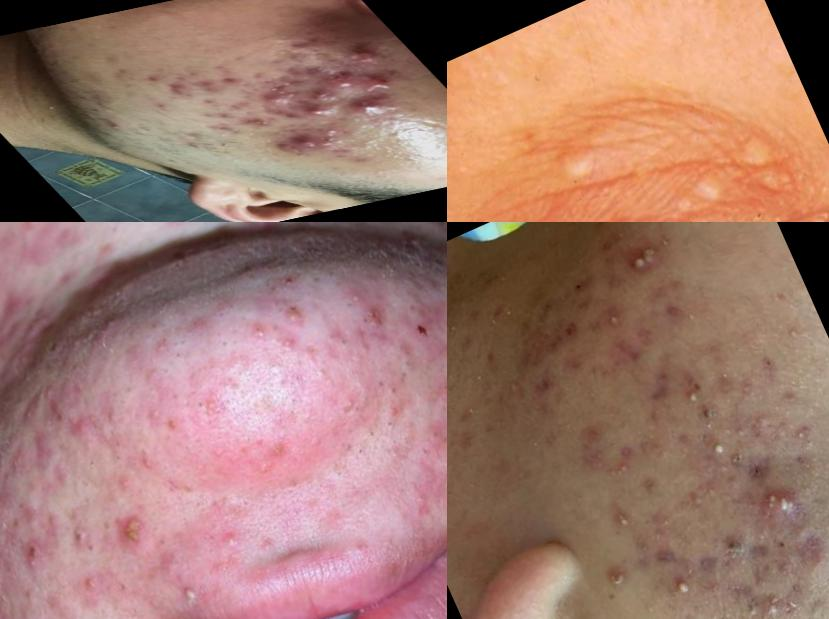acne_scars: (147, 79, 195, 100)
blackhead: (311, 318, 364, 366), (711, 522, 765, 568), (249, 348, 298, 391), (597, 557, 636, 598), (389, 353, 426, 389), (362, 368, 399, 403), (378, 377, 412, 407), (347, 439, 373, 464), (214, 333, 240, 358), (362, 419, 386, 445), (382, 413, 404, 435)
cystic: (78, 447, 113, 478)
keloid: (1, 426, 50, 511), (1, 275, 49, 359), (1, 349, 35, 415)
papular: (236, 424, 307, 490), (179, 378, 240, 435), (82, 303, 144, 354), (59, 403, 110, 450), (409, 417, 448, 474), (63, 514, 110, 556), (359, 301, 403, 345), (336, 279, 377, 321), (94, 398, 134, 439), (316, 67, 372, 95), (135, 397, 175, 434), (146, 326, 184, 364), (128, 444, 166, 480), (241, 89, 299, 111), (347, 44, 398, 68), (283, 129, 324, 153), (355, 99, 401, 118), (300, 104, 346, 123), (368, 72, 408, 92), (431, 373, 448, 410), (314, 87, 343, 103)
purulent: (156, 554, 215, 619), (107, 505, 162, 560), (70, 563, 114, 603), (275, 299, 316, 337), (214, 518, 255, 555), (243, 314, 284, 351), (674, 375, 710, 417), (756, 584, 794, 619), (666, 566, 698, 602), (706, 433, 739, 467), (610, 506, 640, 536), (243, 223, 281, 239)
sebo-crystan-conglo: (748, 468, 811, 536), (618, 231, 678, 282)
syringoma: (567, 120, 822, 223), (542, 125, 631, 199)
whitehead: (310, 369, 378, 437), (767, 303, 816, 350), (522, 424, 562, 464), (460, 354, 491, 398), (604, 298, 637, 330), (497, 293, 528, 325), (783, 412, 812, 445), (494, 257, 516, 288), (448, 317, 468, 336)
